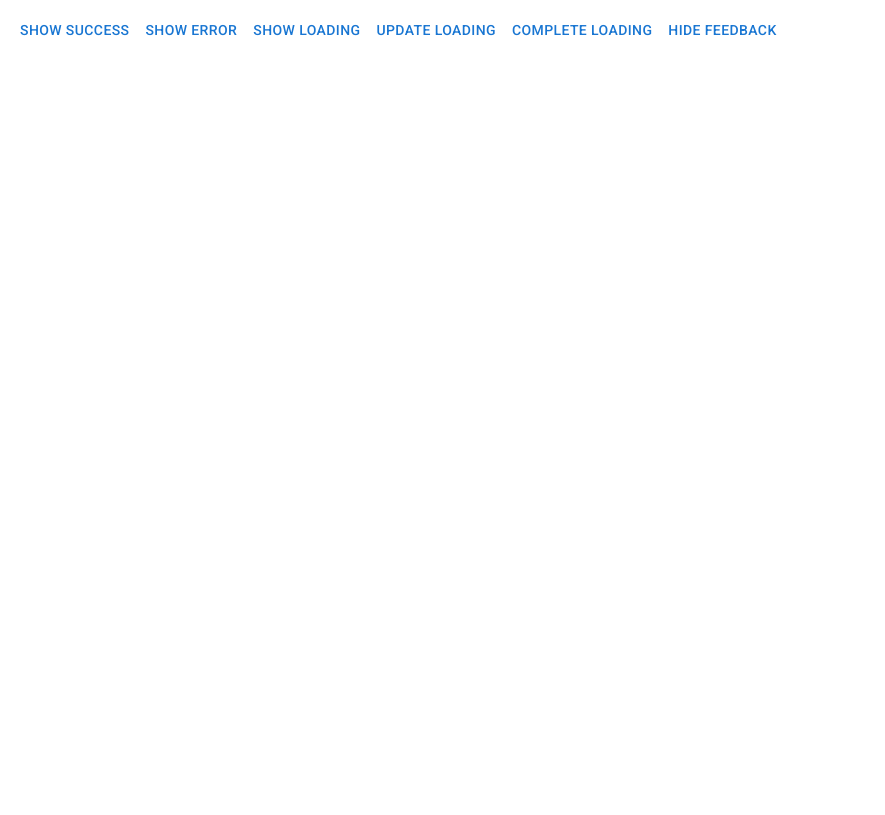
Scenario: ActionFeedbackContext › should update loading feedback
Note: Show loading
Click the button with test id "show-loading" at (307, 30), box [245,12,368,48]
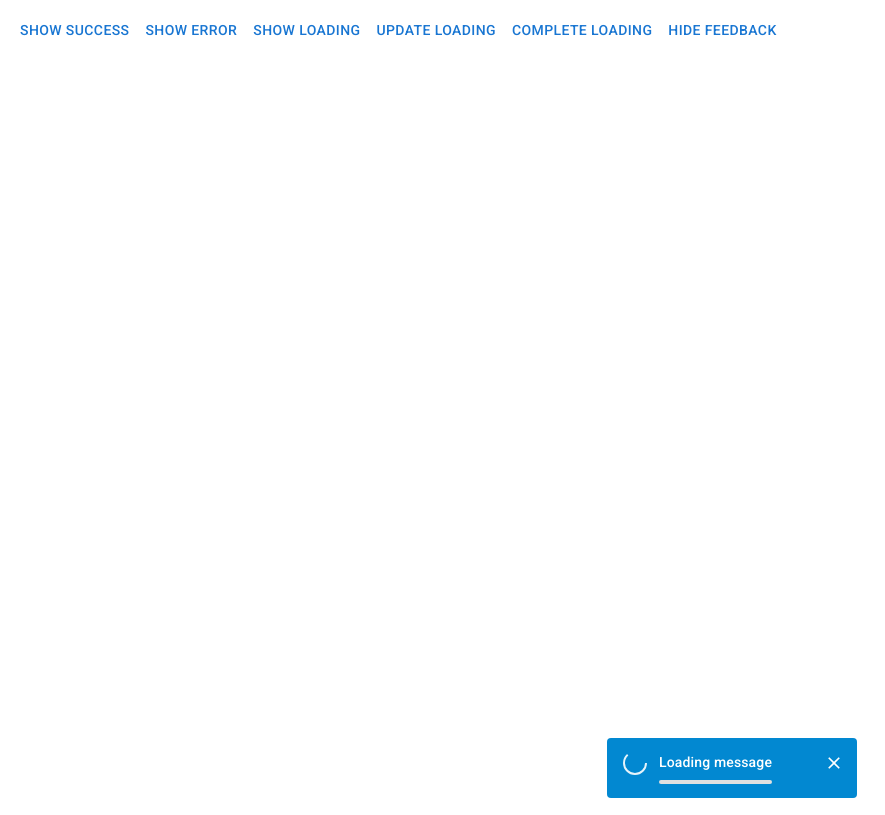
Note: Update loading
Click the button with test id "update-loading" at (436, 30), box [368,12,504,48]
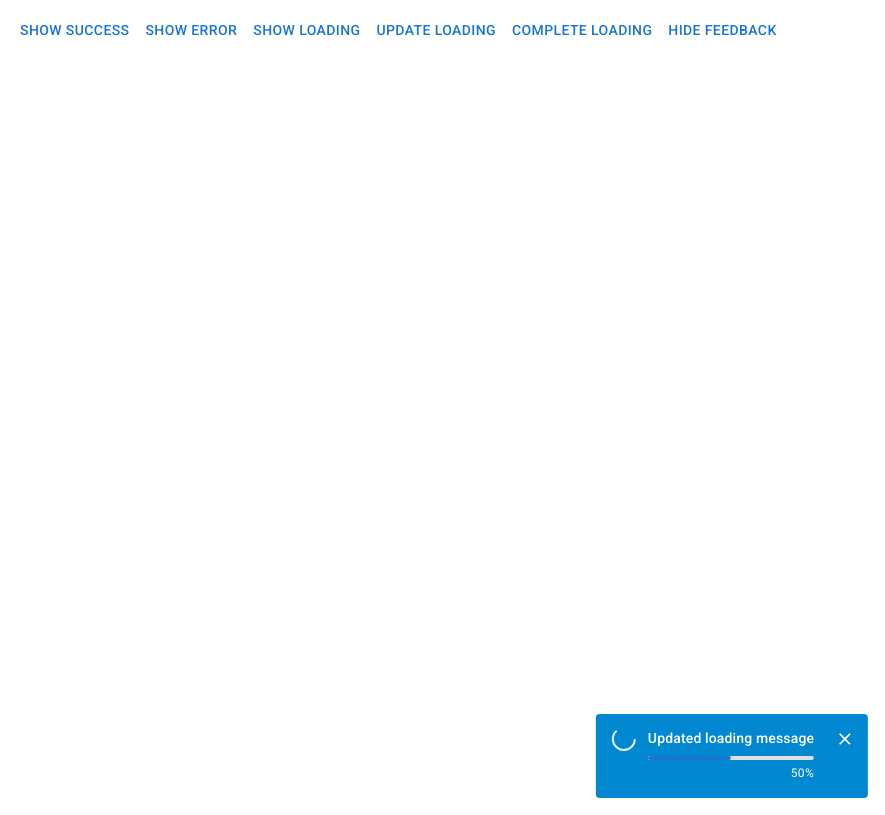
Expected: the text "Updated loading message" is shown, [648,730,814,746]
